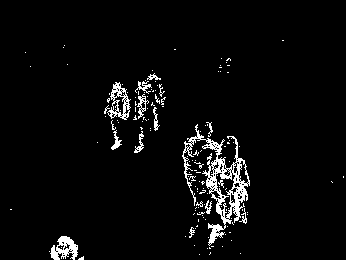person: (181, 121, 220, 240), (213, 134, 250, 249), (133, 73, 162, 155), (103, 80, 130, 151)
